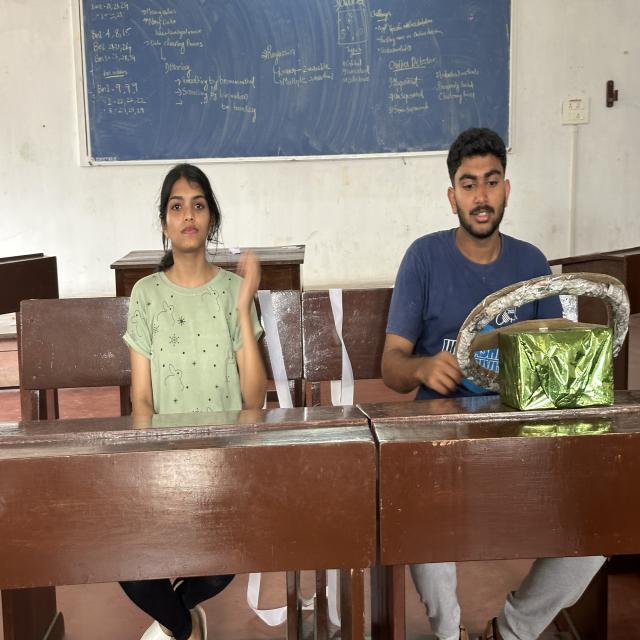no-seatbelt: (388, 212, 568, 405), (123, 264, 272, 417)
